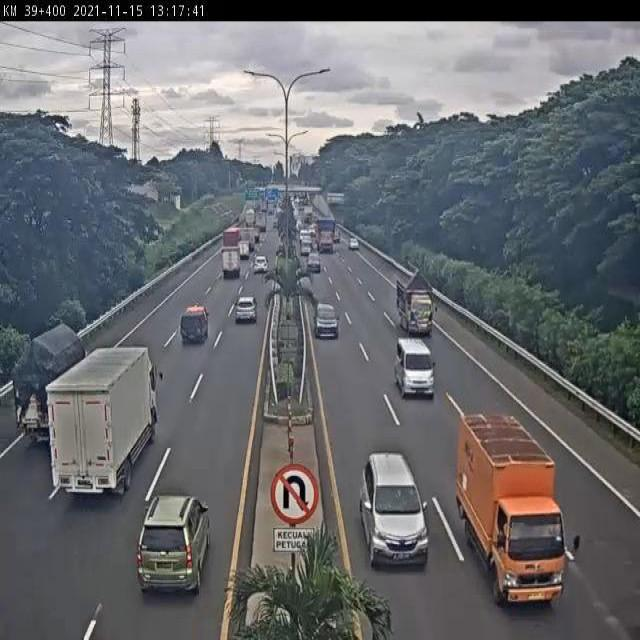car: (358, 451, 432, 566), (138, 496, 213, 597), (394, 334, 436, 398), (313, 300, 342, 341), (234, 294, 259, 326), (307, 250, 323, 274), (254, 255, 268, 276)
truck-m-: (52, 344, 161, 499), (11, 319, 101, 448), (395, 264, 438, 339), (220, 242, 243, 282)
truck-s-: (459, 413, 569, 611), (179, 304, 210, 348)
